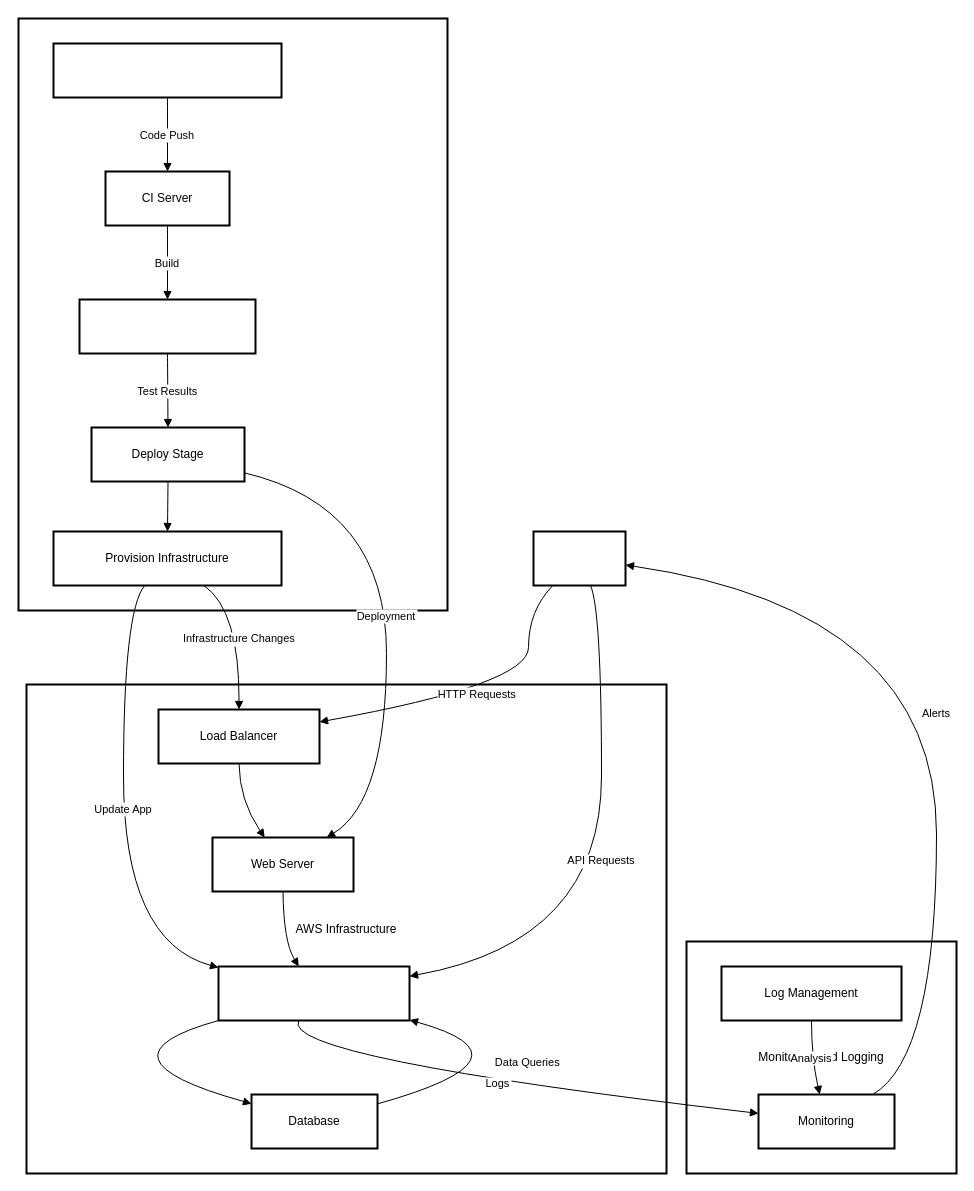
This 974x1191 diagram has some shape labels left out. The shapes that lost their labels are listed below. From the top down, each one's box as (x1, y1, x2, y2) in pixels, then its label:
(52, 42, 282, 98): Source Code Repository
(78, 298, 256, 354): Test Automation
(17, 17, 448, 611): CI/CD Pipeline
(532, 530, 626, 586): User
(217, 965, 410, 1021): Application Server
